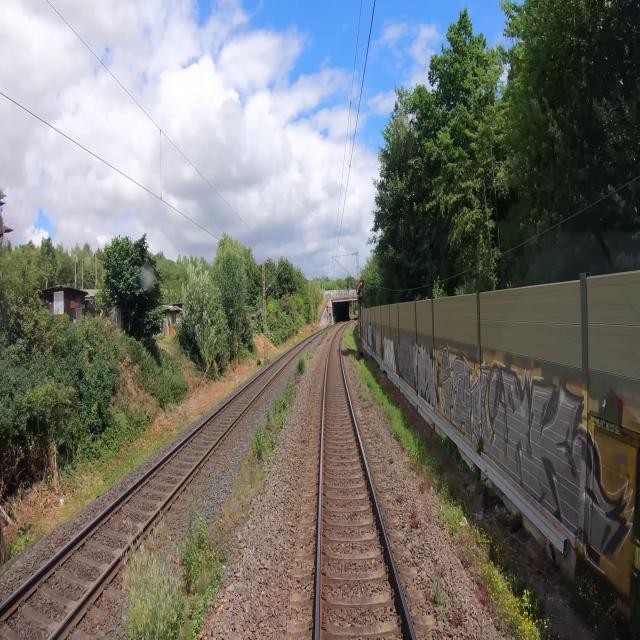Plant: (119, 347, 314, 639), (435, 515, 492, 609), (352, 356, 374, 407), (431, 577, 446, 608), (387, 422, 404, 449), (409, 507, 421, 528), (452, 609, 462, 626), (418, 479, 426, 494)
